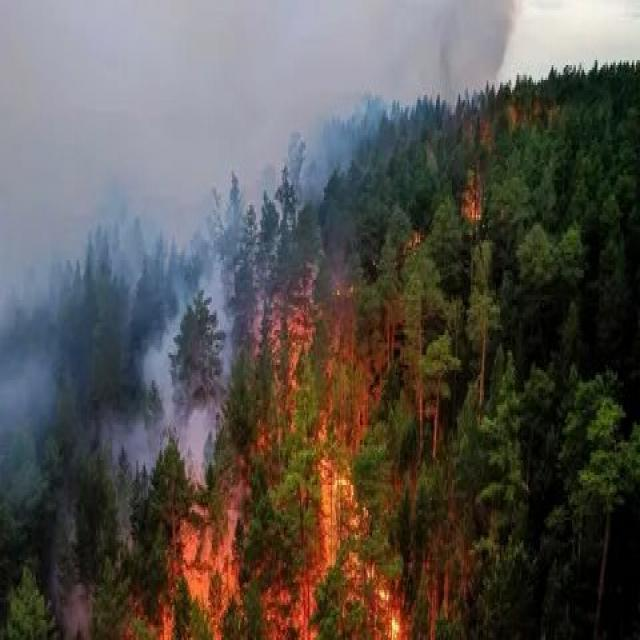Fire: (217, 346, 432, 640)
Smoke: (2, 5, 475, 242)
